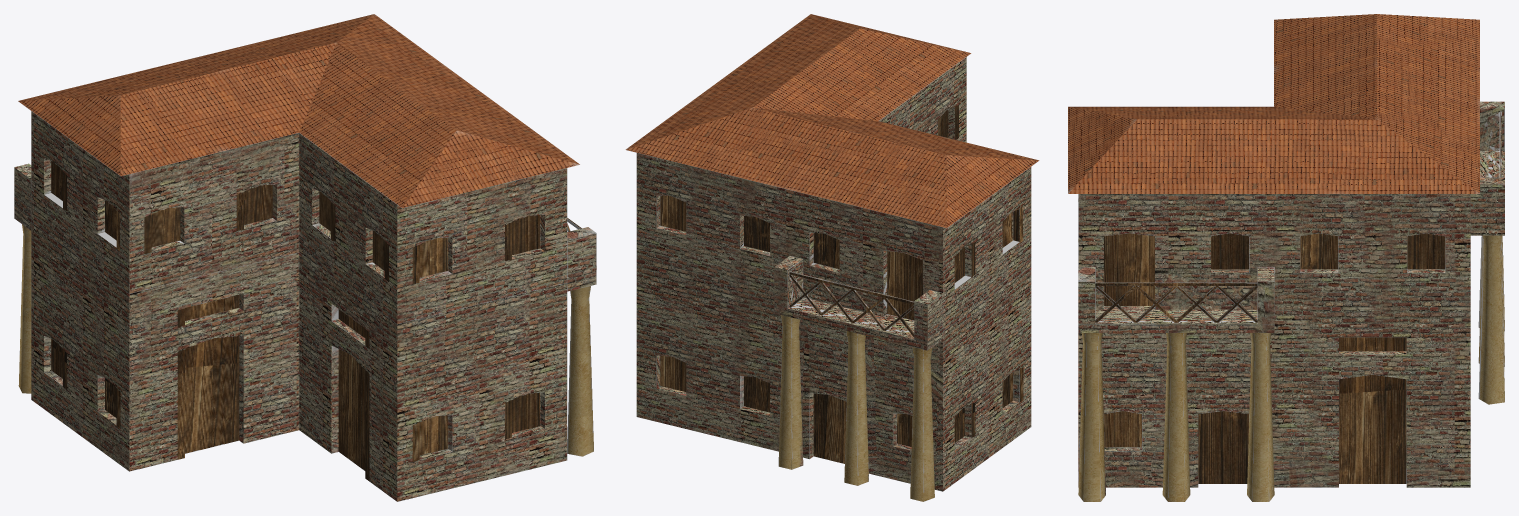
The model's file is insula_4.glb.
The picture shows the model from 3 angles, left to right: view 1: azimuth 30°, elevation 25°; view 2: azimuth 150°, elevation 25°; view 3: azimuth 270°, elevation 25°; orthographic projection. The views are drawn at different scales.
Parts seen in each view (by area): view 1: insula4_0; view 2: insula4_0; view 3: insula4_0.
Boxes of the visible parts, x1,y1,x2,y2 form: insula4_0: (14,14,596,501); insula4_0: (625,14,1039,501); insula4_0: (1068,14,1504,501).
Bounding box in the file's own units: 0.6402 × 0.5313 × 0.6402.
1 material, 1 textured.
